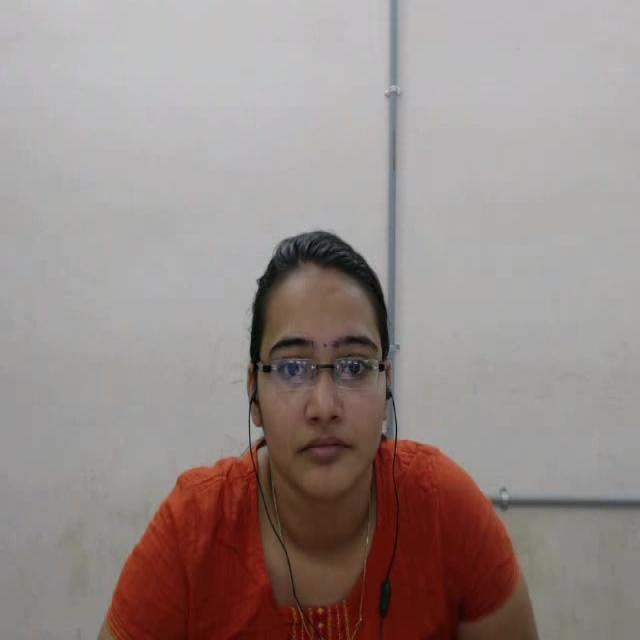Engaged: (222, 203, 426, 548)
